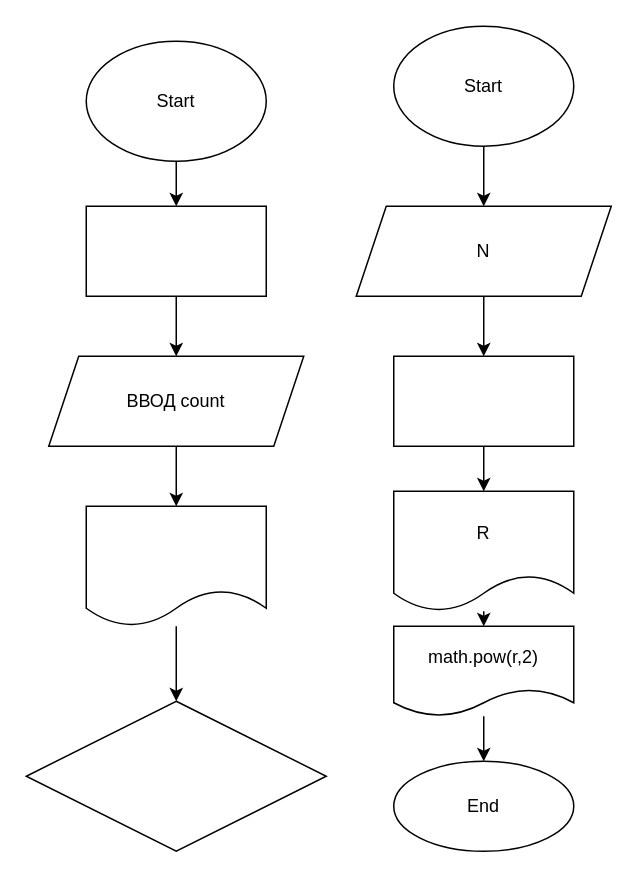
Image size: 638x878. Some labels were removed from this diagram. Each missing label, with the centre of its shape:
Count=0 res=1* Sqrt(2): pixel 175 250
R R= random(1,N): pixel 483 400
ВЫВОД RES: pixel 175 565
